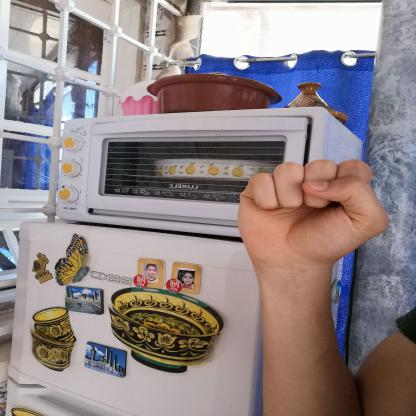SAD: (221, 145, 404, 277)
